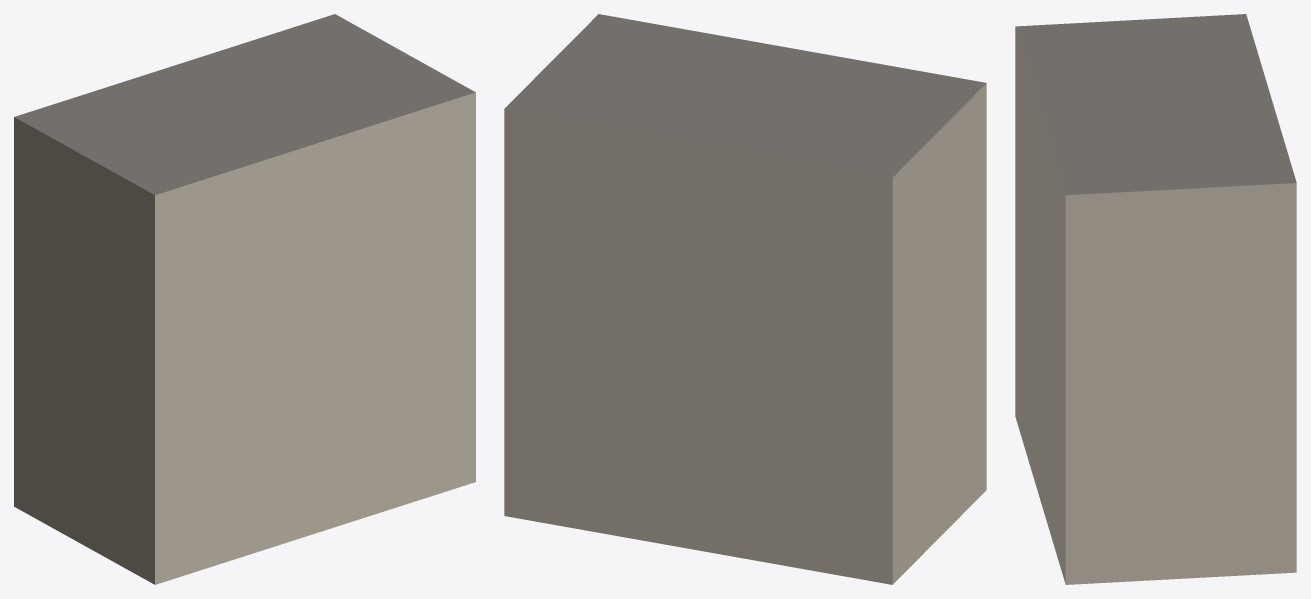
3 views of the same model, side by side, from view 1: azimuth 30°, elevation 25°; view 2: azimuth 150°, elevation 25°; view 3: azimuth 270°, elevation 25° (orthographic). The views are drawn at different scales.
Visible parts, largest first — view 1: HP-w1197839035; view 2: HP-w1197839035; view 3: HP-w1197839035.
Part boxes in pixels (x1,y1,x2,y2): HP-w1197839035: [14, 14, 475, 584]; HP-w1197839035: [504, 14, 986, 584]; HP-w1197839035: [1015, 14, 1296, 584].
Size of the model in its own units: 14.97 by 15 by 9.82.
